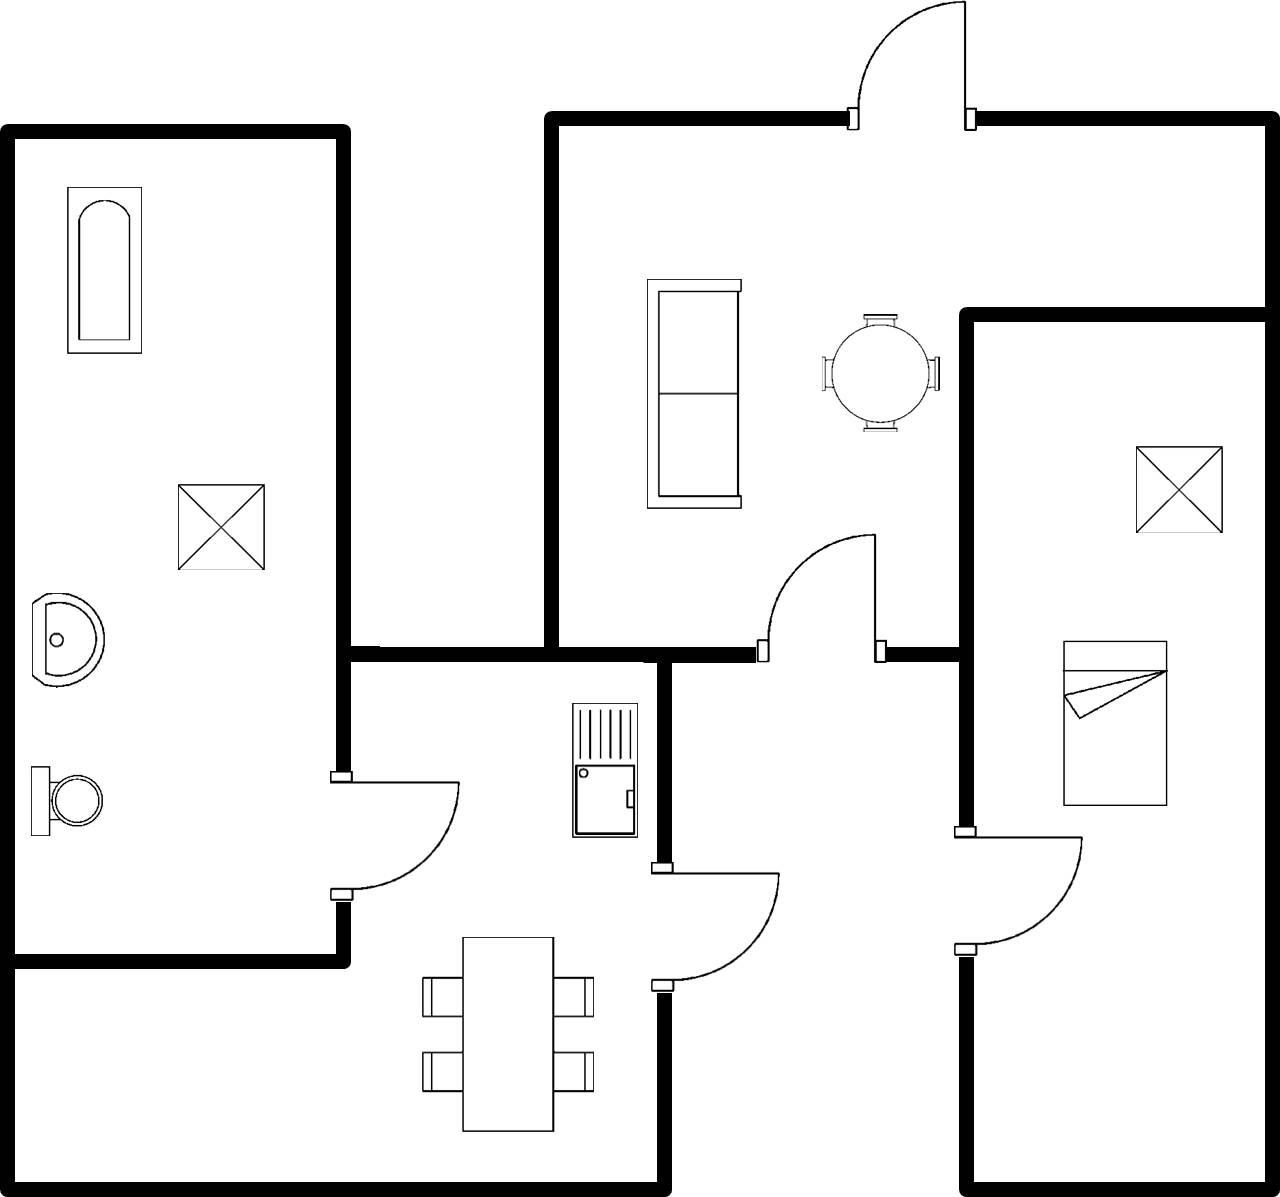bed: (1053, 631, 1177, 814)
dining_table: (414, 926, 594, 1138)
round_table: (809, 301, 947, 441)
sink: (561, 694, 640, 848)
sofa: (637, 269, 751, 520)
toilet: (22, 757, 107, 845)
tub: (58, 178, 148, 360)
